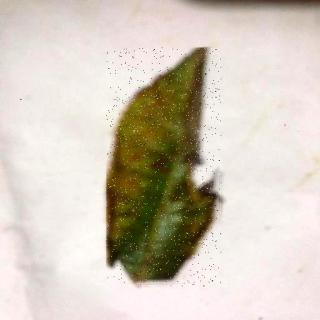Red Leaf Spot: (108, 49, 223, 288)
